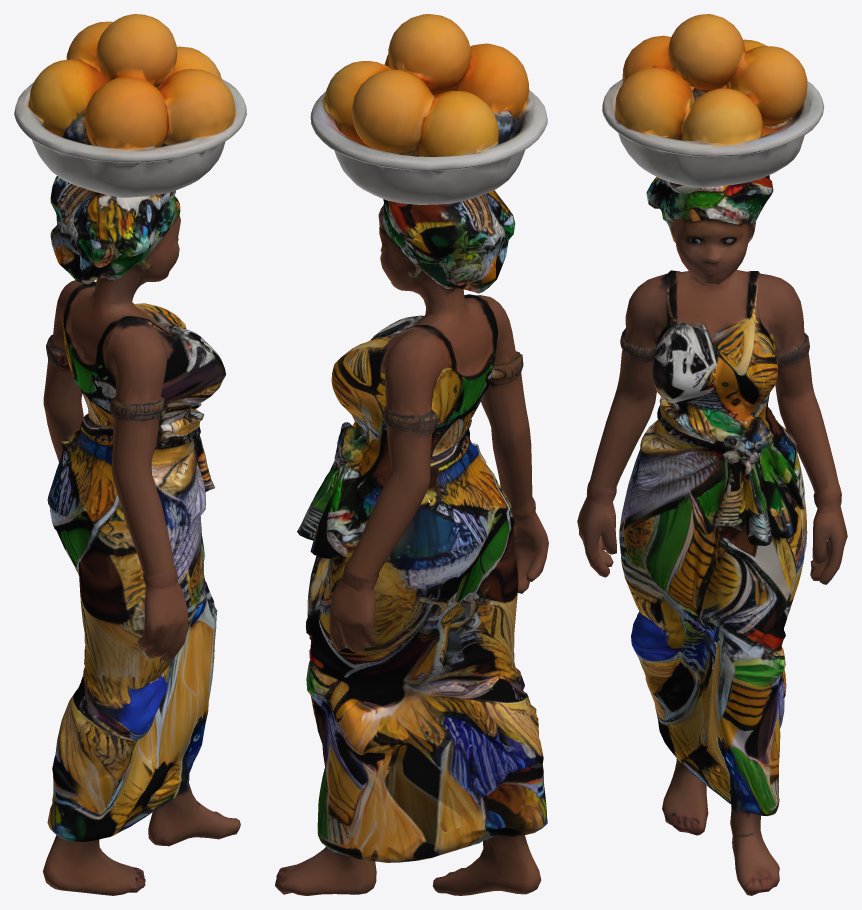
Rendered from mama.glb.
3 views of the same model, side by side, from view 1: azimuth 30°, elevation 25°; view 2: azimuth 150°, elevation 25°; view 3: azimuth 270°, elevation 25° (orthographic). The views are drawn at different scales.
Parts seen in each view (by area): view 1: tripo_node_8a799680-ed2c-46d2-8283-6165c54f9871; view 2: tripo_node_8a799680-ed2c-46d2-8283-6165c54f9871; view 3: tripo_node_8a799680-ed2c-46d2-8283-6165c54f9871.
Part boxes in pixels (left/top/right/bottom): tripo_node_8a799680-ed2c-46d2-8283-6165c54f9871: left=14, top=14, right=246, bottom=895; tripo_node_8a799680-ed2c-46d2-8283-6165c54f9871: left=275, top=14, right=548, bottom=895; tripo_node_8a799680-ed2c-46d2-8283-6165c54f9871: left=577, top=14, right=847, bottom=895.
Size of the model in its own units: 0.487 by 1.75 by 0.5218.
Materials: 1 (1 with a texture image).
